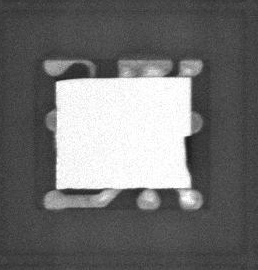DIE_BROKEN: (182, 134, 191, 181), (55, 77, 84, 84)
